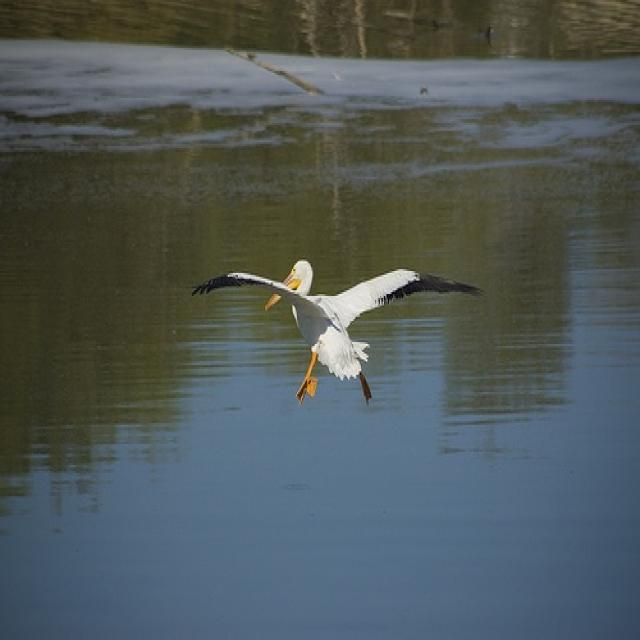bird: (193, 252, 485, 409)
